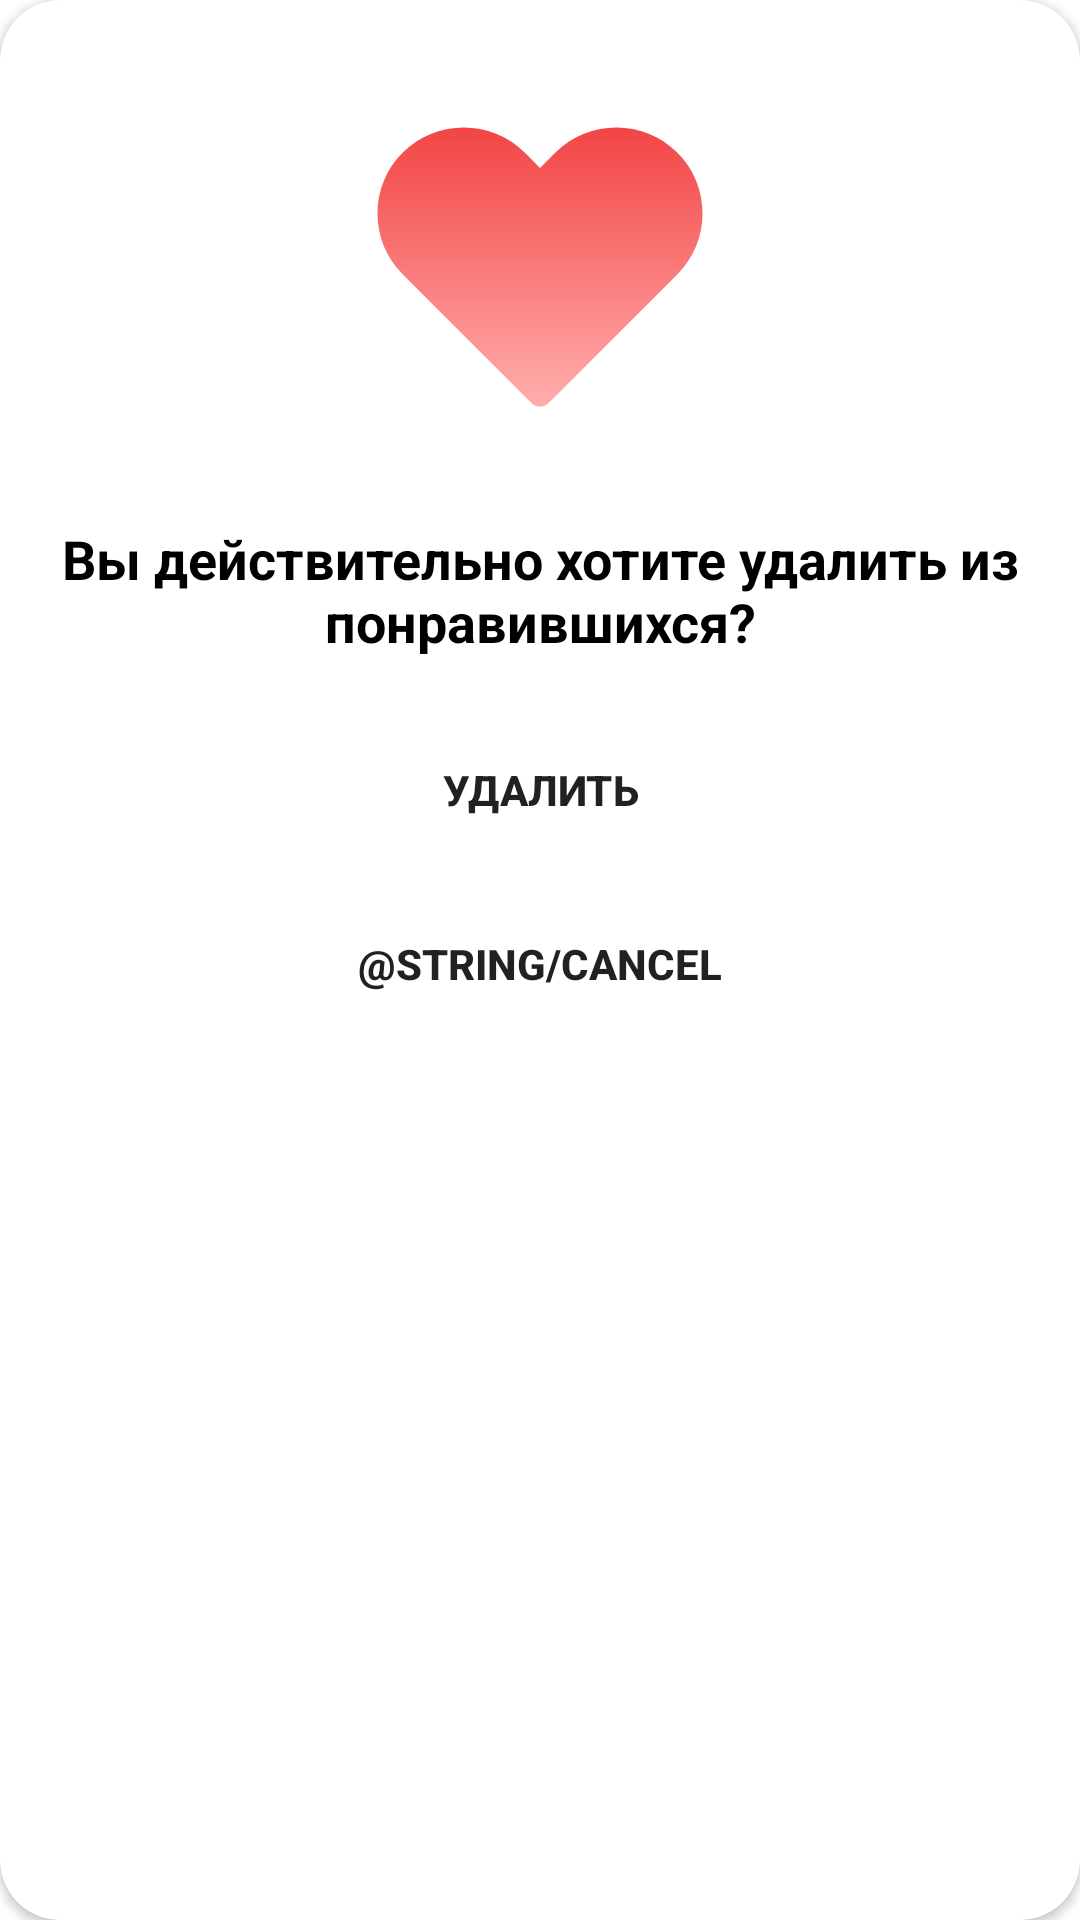

Icon bounding boxes for this 1080 x 1920 phone screenshot, format (x1, y1, x2, y2):
heart: (377, 127, 703, 407)
